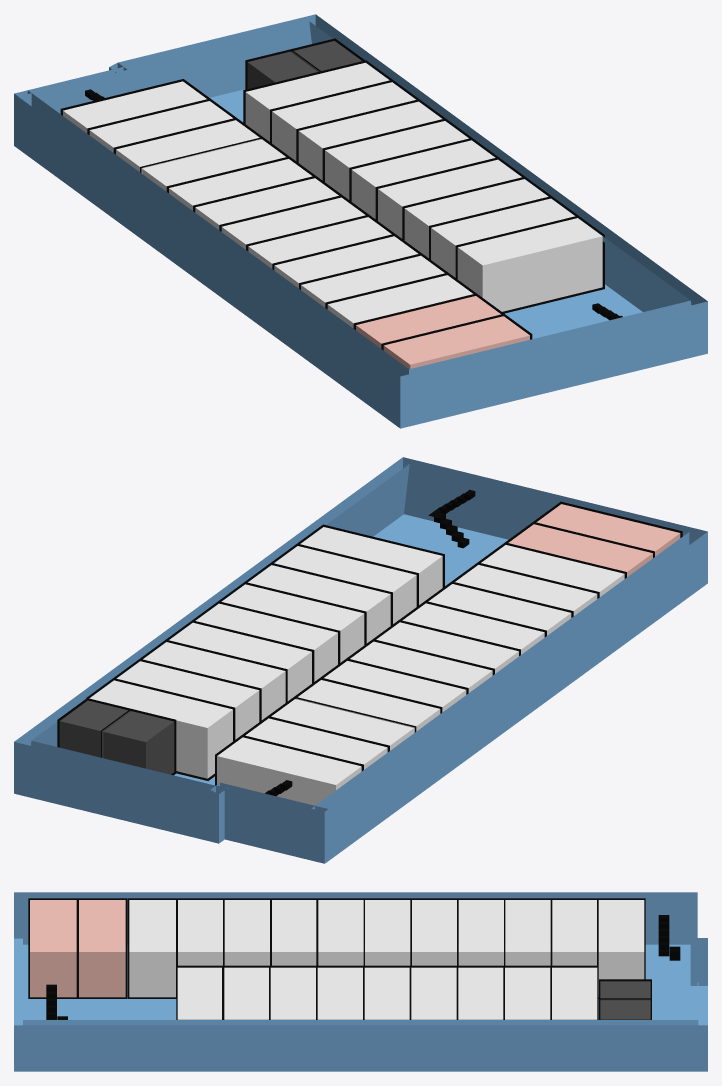
The picture shows the model from 3 angles, top to bottom: view 1: azimuth 30°, elevation 25°; view 2: azimuth 150°, elevation 25°; view 3: azimuth 270°, elevation 25°; orthographic projection. The views are drawn at different scales.
Visible parts, largest first — view 1: object, room_3_4_20, トイレ_3_4_1, room_3_4_19, room_3_4_13, room_3_4_12, room_3_4_18, room_3_4_17, room_3_4_15, room_3_4_16, room_3_4_14, room_3_4_1 (+13 smaller); view 2: object, エレベーター_3_4_1, room_3_4_11, room_3_4_12, room_3_4_15, room_3_4_17, room_3_4_18, room_3_4_13, room_3_4_14, room_3_4_16, room_3_4_19, room_3_4_20 (+15 smaller); view 3: object, room_3_4_1, トイレ_3_4_2, トイレ_3_4_1, room_3_4_11, room_3_4_3, room_3_4_5, room_3_4_6, room_3_4_8, room_3_4_9, room_3_4_2, room_3_4_4 (+28 smaller).
Boxes of the visible parts, <box> form: object: <box>14,14,707,428</box>; room_3_4_20: <box>457,218,602,311</box>; トイレ_3_4_1: <box>383,316,529,369</box>; room_3_4_19: <box>431,198,574,277</box>; room_3_4_13: <box>272,82,415,160</box>; room_3_4_12: <box>245,62,389,141</box>; room_3_4_18: <box>404,179,548,257</box>; room_3_4_17: <box>378,159,521,238</box>; room_3_4_15: <box>325,121,468,199</box>; room_3_4_16: <box>351,140,495,218</box>; room_3_4_14: <box>298,101,441,180</box>; room_3_4_1: <box>327,275,472,328</box>; object: <box>14,457,707,863</box>; エレベーター_3_4_1: <box>59,700,174,774</box>; room_3_4_11: <box>217,737,361,805</box>; room_3_4_12: <box>89,680,232,778</box>; room_3_4_15: <box>169,622,311,700</box>; room_3_4_17: <box>221,584,364,662</box>; room_3_4_18: <box>248,565,390,643</box>; room_3_4_13: <box>117,661,259,739</box>; room_3_4_14: <box>143,642,285,719</box>; room_3_4_16: <box>196,603,337,681</box>; room_3_4_19: <box>274,546,416,623</box>; room_3_4_20: <box>300,527,442,604</box>; object: <box>14,892,707,1071</box>; room_3_4_1: <box>129,900,175,997</box>; トイレ_3_4_2: <box>79,900,125,997</box>; トイレ_3_4_1: <box>30,900,76,997</box>; room_3_4_11: <box>598,900,644,996</box>; room_3_4_3: <box>224,900,269,965</box>; room_3_4_5: <box>318,900,363,965</box>; room_3_4_6: <box>365,900,410,965</box>; room_3_4_8: <box>458,900,503,965</box>; room_3_4_9: <box>505,900,550,965</box>; room_3_4_2: <box>178,900,222,965</box>; room_3_4_4: <box>272,900,316,965</box>.
Size of the model in its own units: 1.15 by 0.1938 by 2.54.
